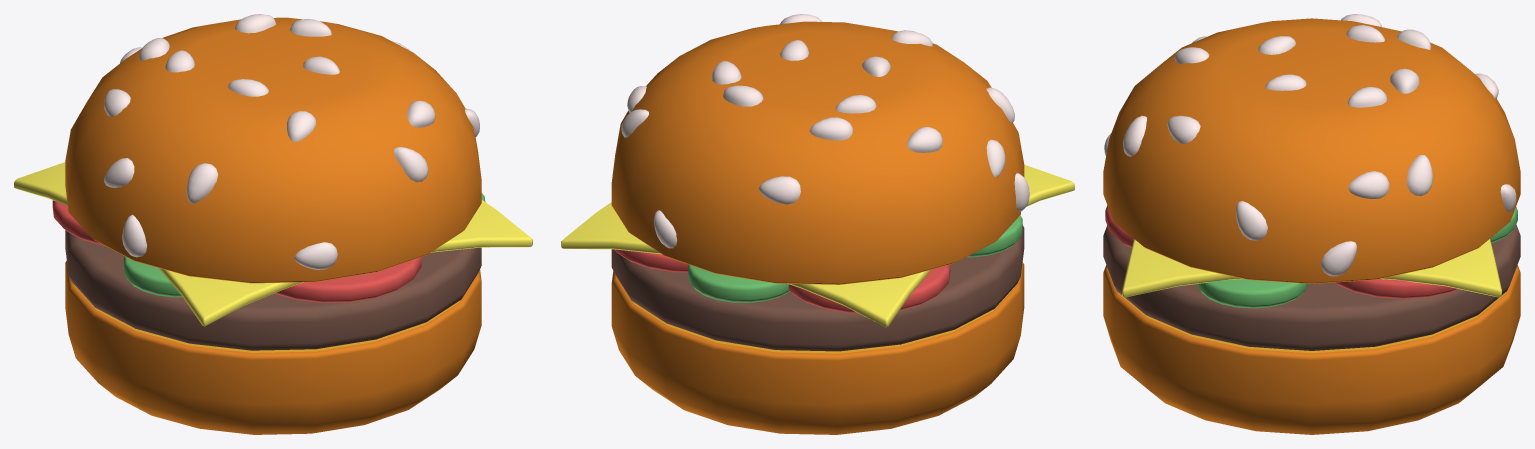
The model's file is Burger.fbx.
3 renders of one model, left to right at view 1: azimuth 30°, elevation 25°; view 2: azimuth 150°, elevation 25°; view 3: azimuth 270°, elevation 25°, orthographic.
Visible parts, largest first — view 1: Burger; view 2: Burger; view 3: Burger.
Boxes of the visible parts, x1=… form: Burger: x1=14, y1=14, x2=532, y2=434; Burger: x1=561, y1=14, x2=1074, y2=434; Burger: x1=1103, y1=14, x2=1520, y2=434.
Size of the model in its own units: 16.21 by 12.98 by 15.98.
